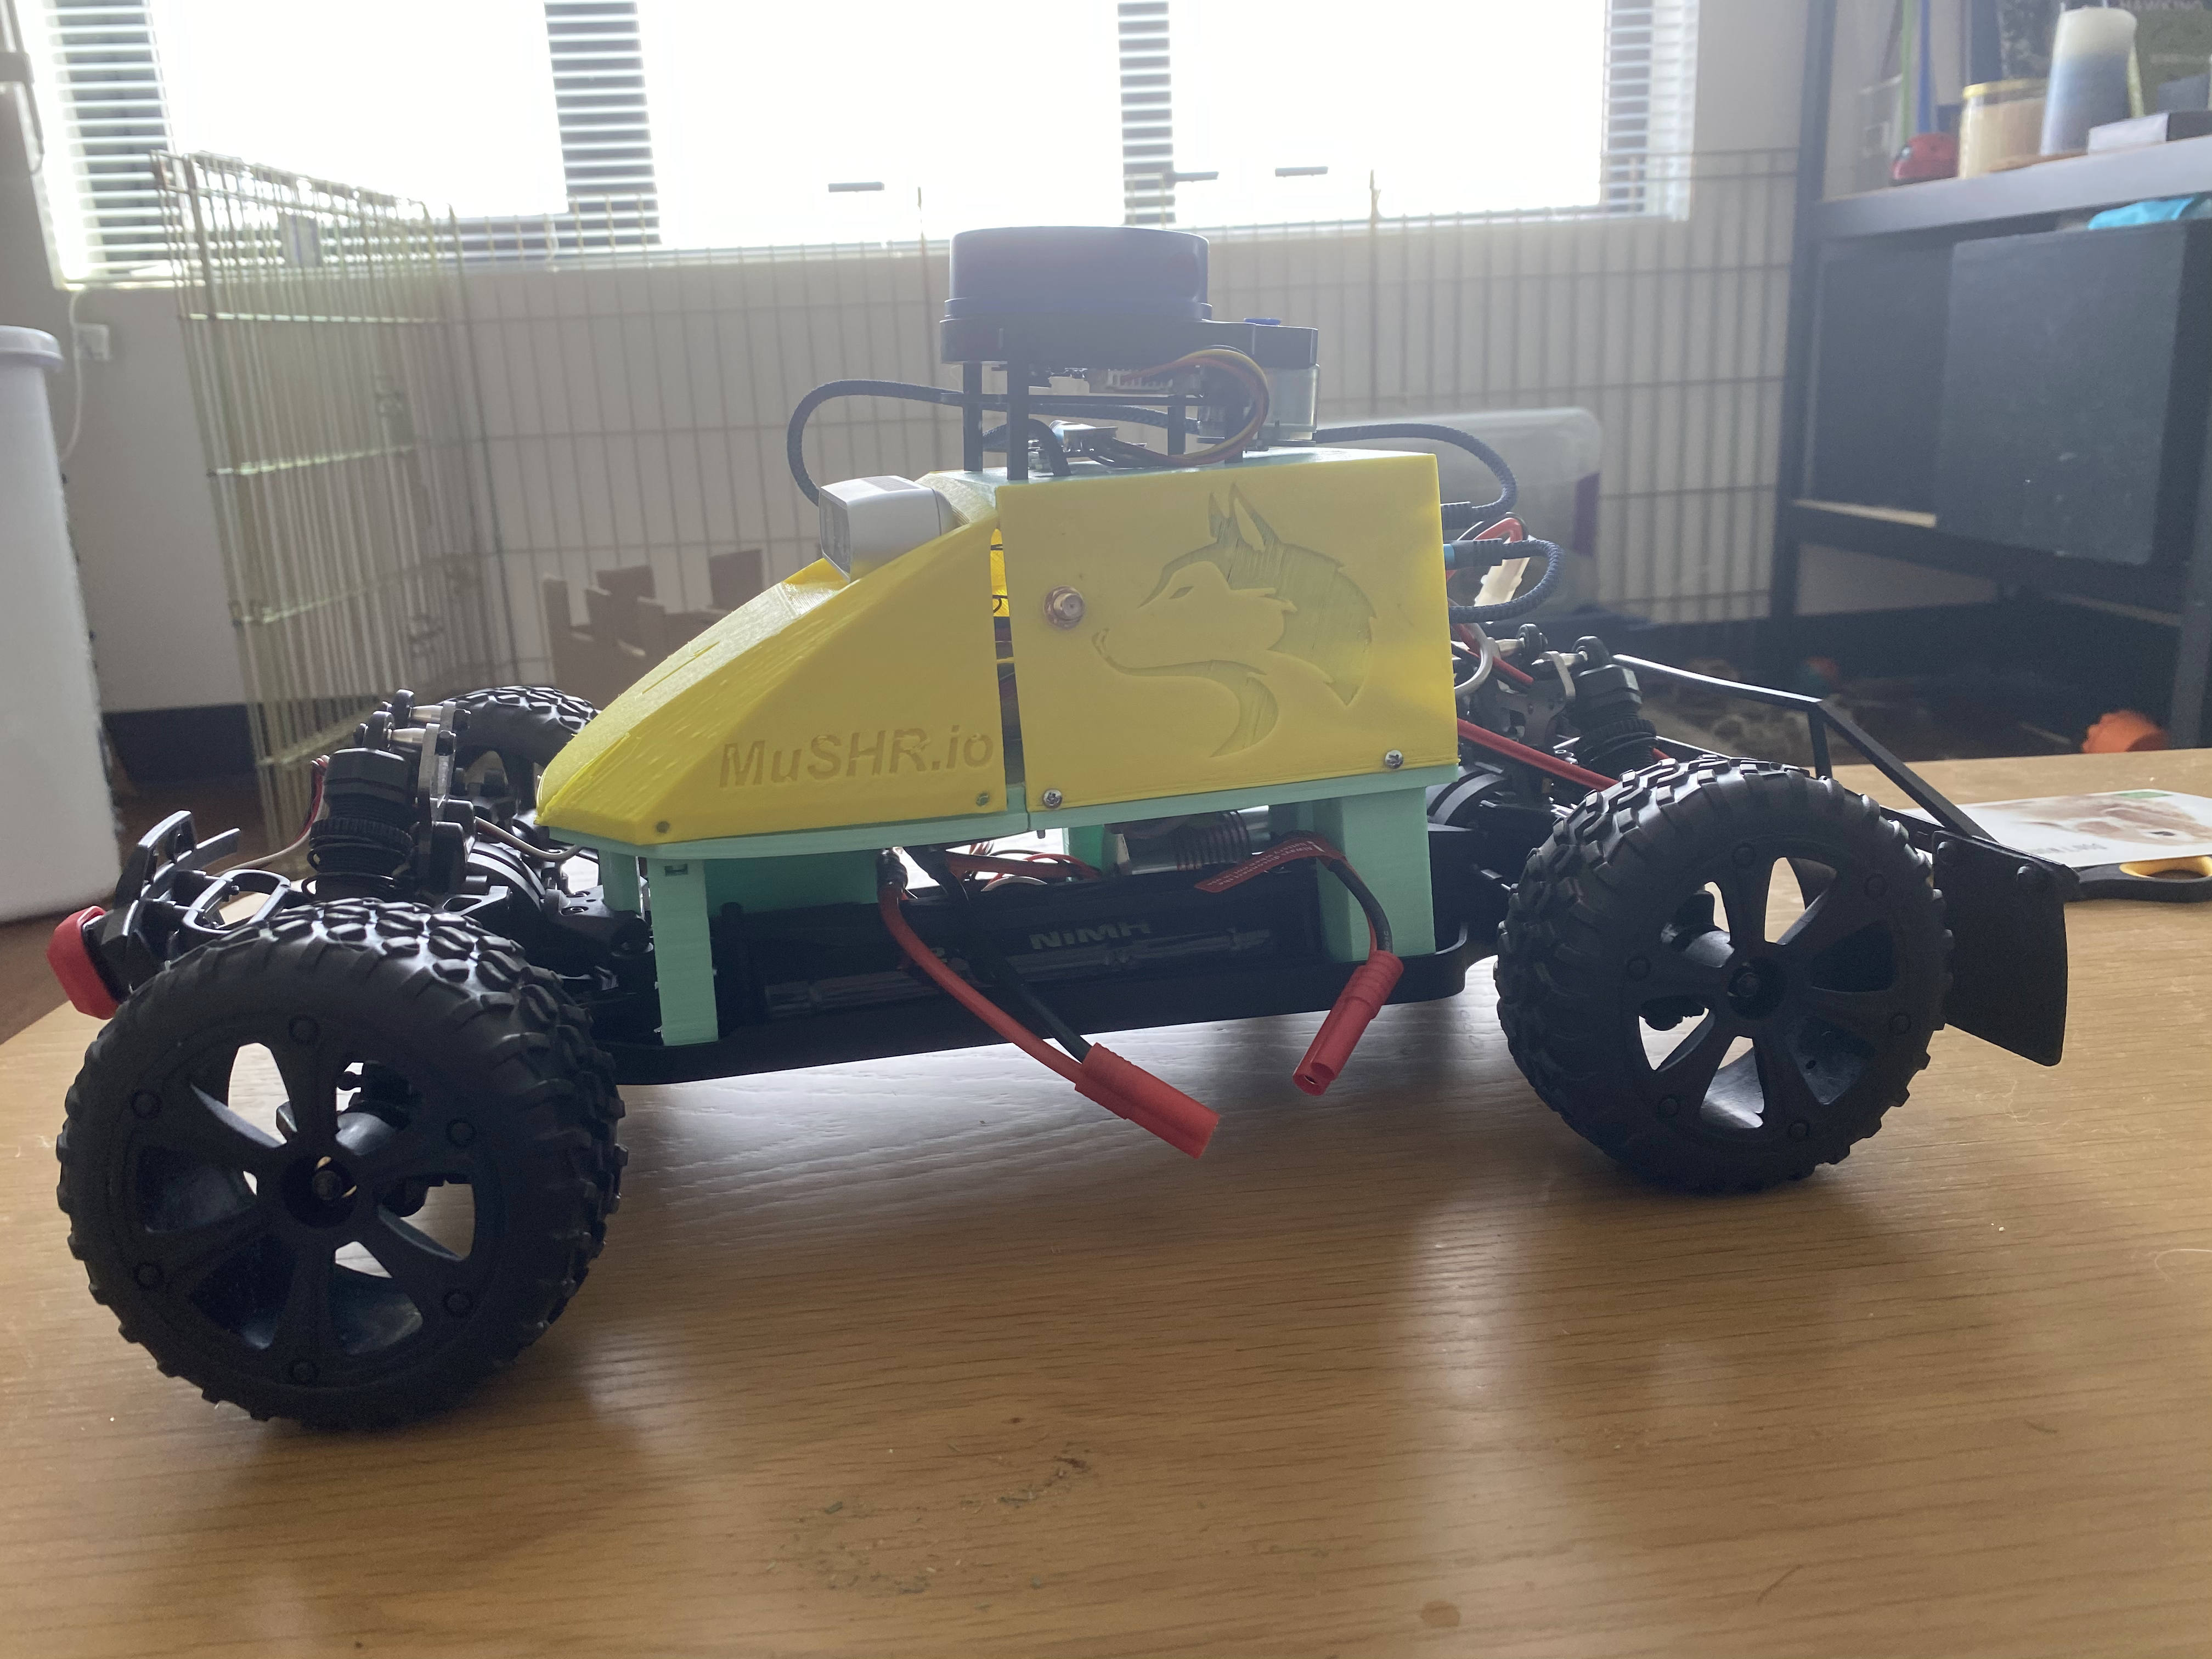mushr_car: (21, 220, 2081, 1425)
